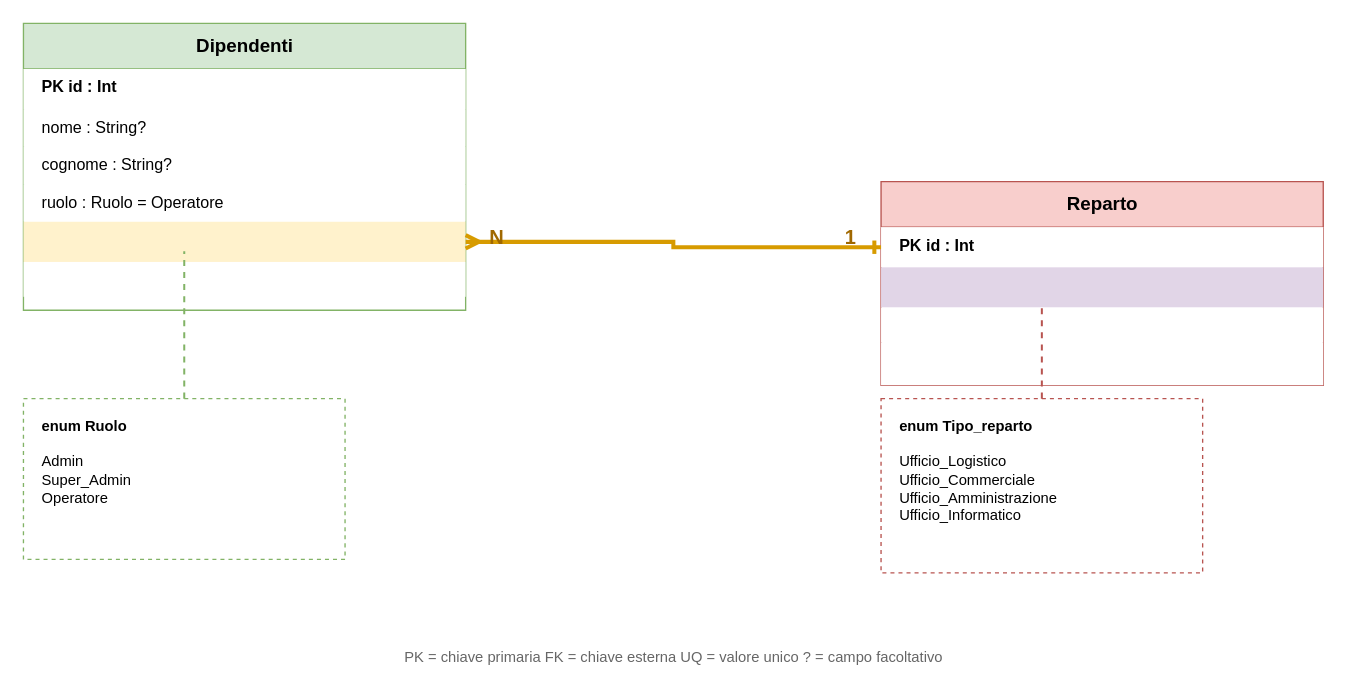
This 1347x690 diagram has some shape labels left out. The centre of each missing label's shape, as x and y in pixels:
dipendente : Dipendenti[] (relazione): (x=1101, y=324)
FK repartoId : Int?: (x=244, y=241)
reparto : Reparto? (relazione): (x=244, y=278)
UQ reparto : Tipo_reparto: (x=1101, y=287)
